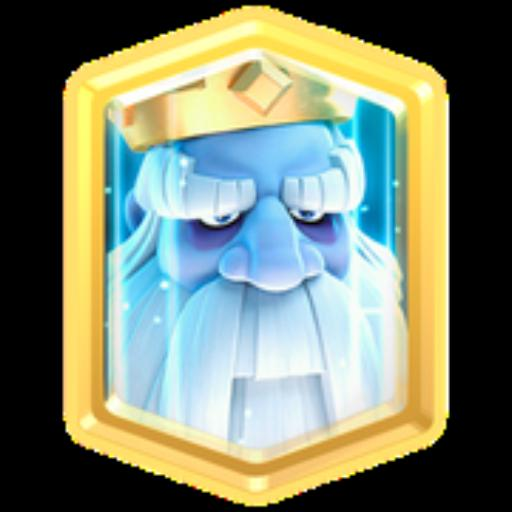royal-ghost: (98, 68, 404, 462)
